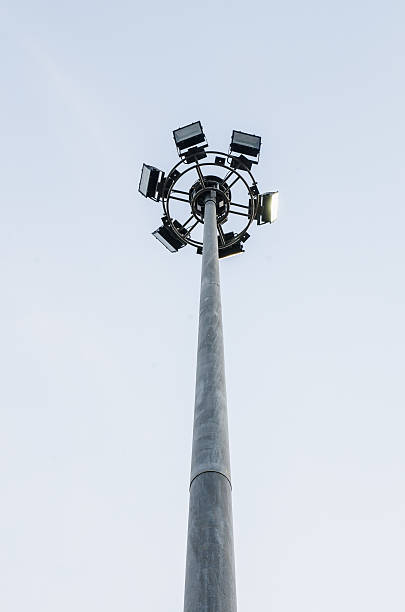light_pole: (185, 195, 240, 612)
